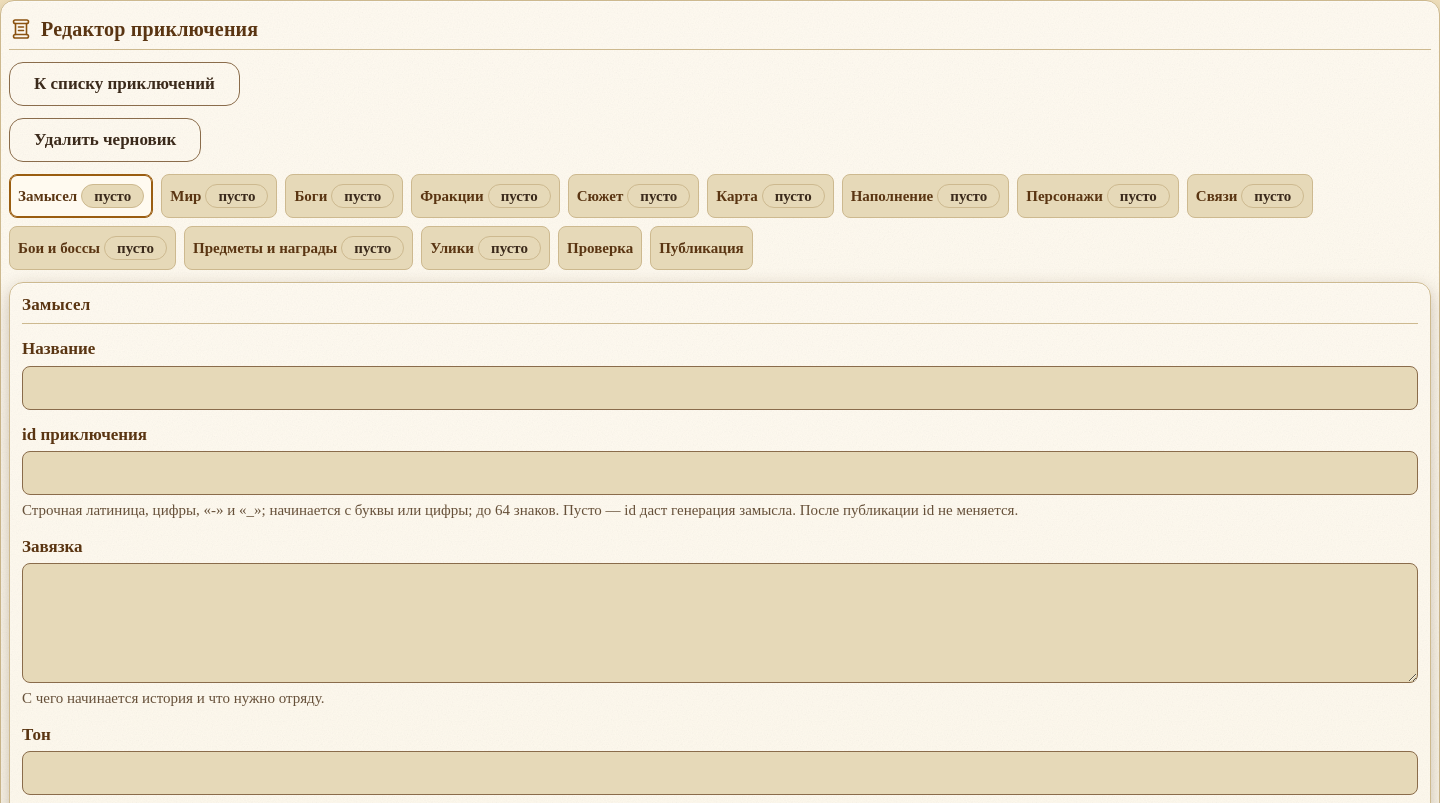
Test case: экран «Проверка» › короткая и ровная оценка времени: «около 45 мин», «около 2 ч»
Click the button "Проверка": (600, 248) [558,226,642,270]
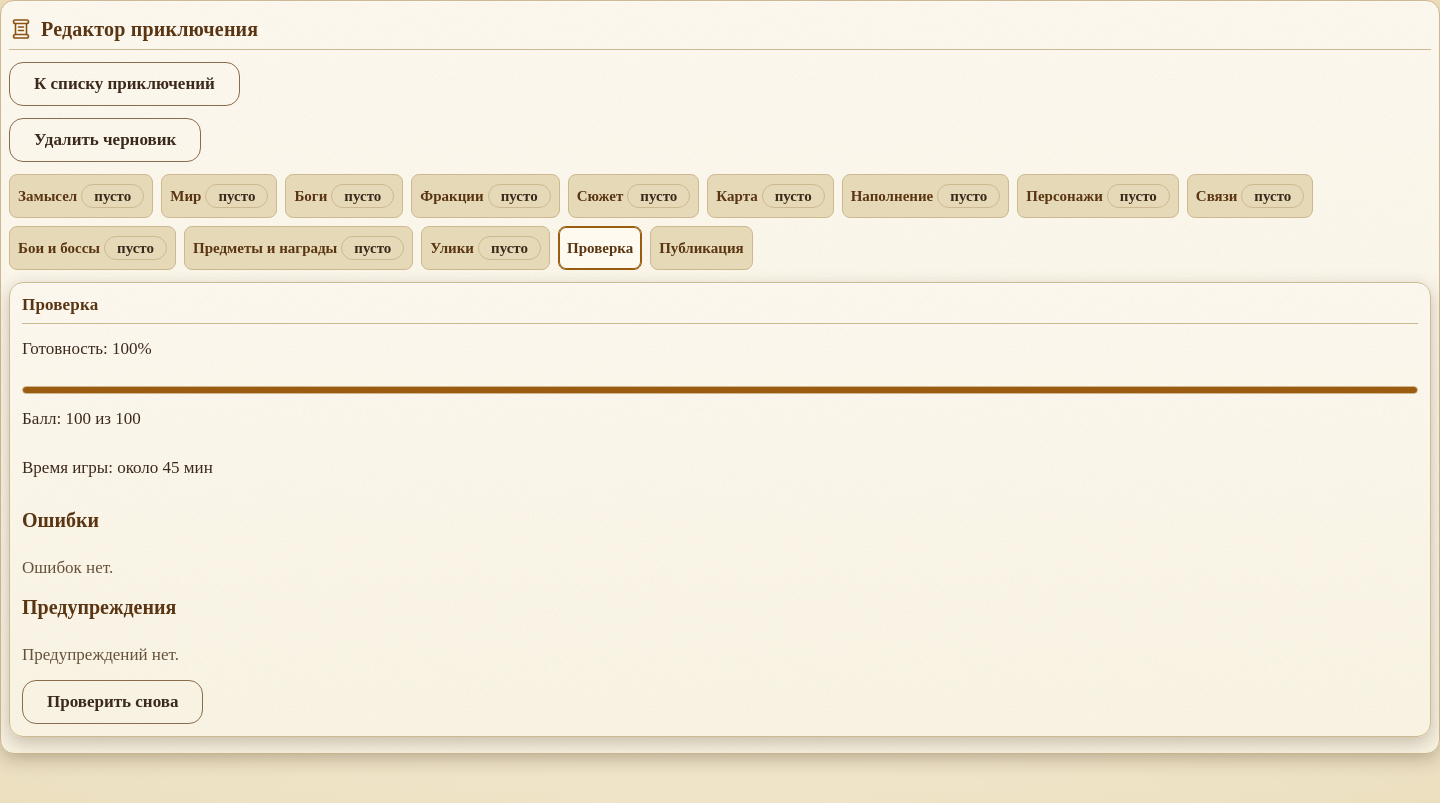
Check: the text "Время игры: около 45 мин" is shown, box [22,458,213,477]
